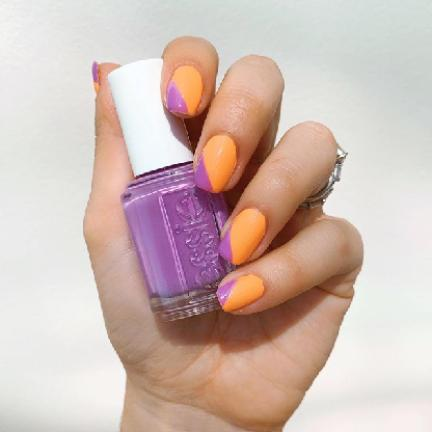Nail: (219, 208, 266, 265), (194, 135, 237, 192), (166, 66, 203, 115), (217, 275, 263, 311), (93, 62, 99, 92)
